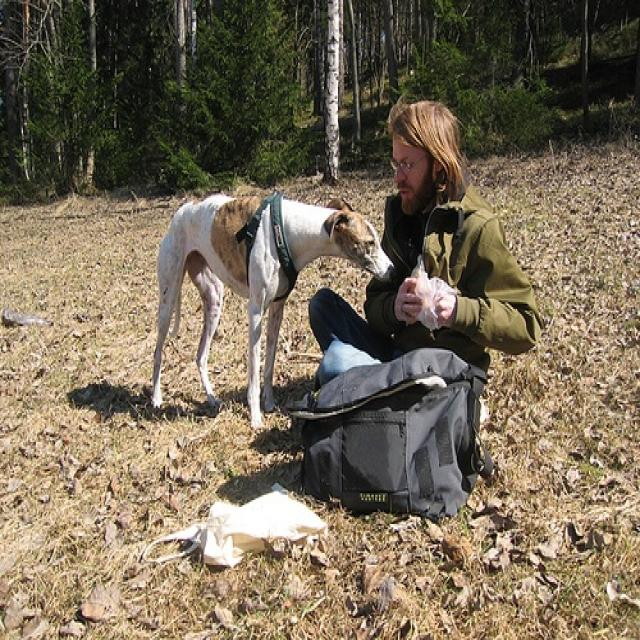dog: (150, 188, 394, 428)
